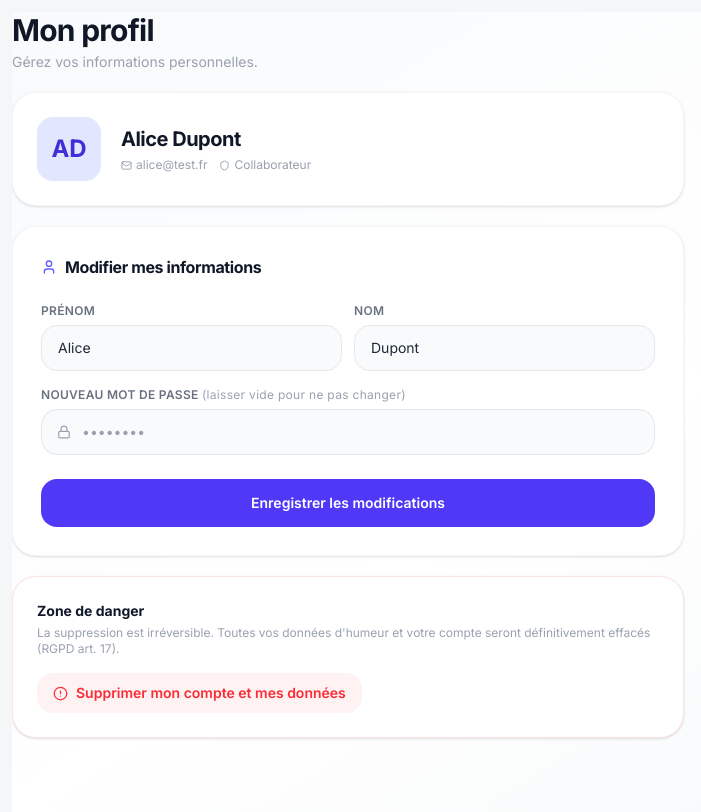
Profile — Modification du profil › affiche l'erreur API si la requête échoue
Click the button "Enregistrer les modifications": {"x": 348, "y": 503} [41,479,655,527]
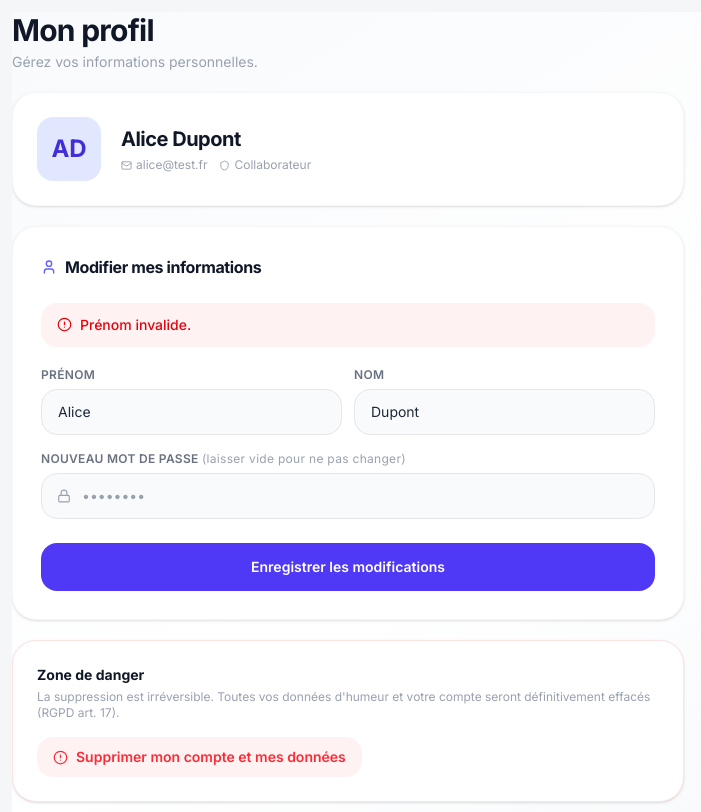
Result: the text "Prénom invalide." is shown at [41,303,655,347]
